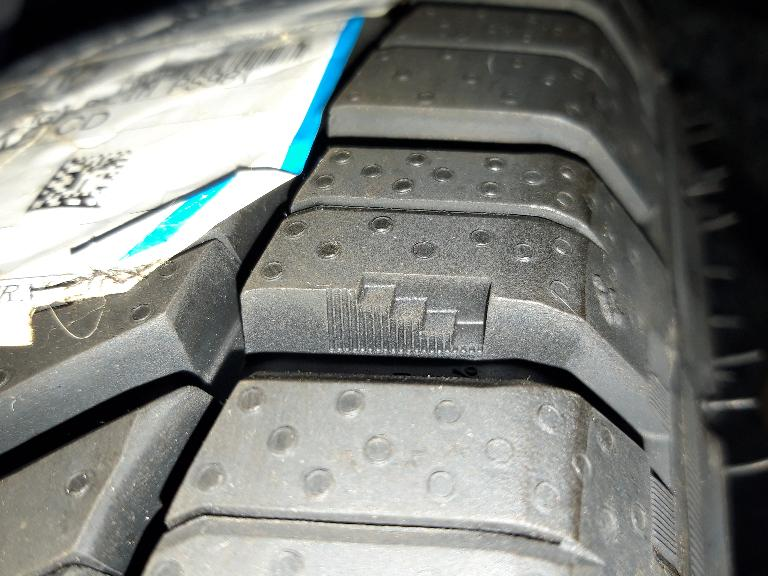temoin:100: (318, 265, 503, 366)
